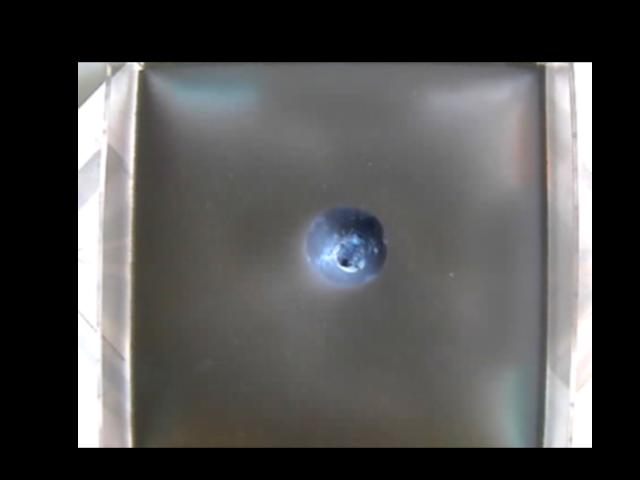Mooli: (302, 206, 386, 286)
